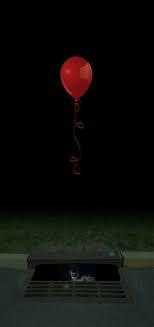red: (60, 56, 93, 103)
